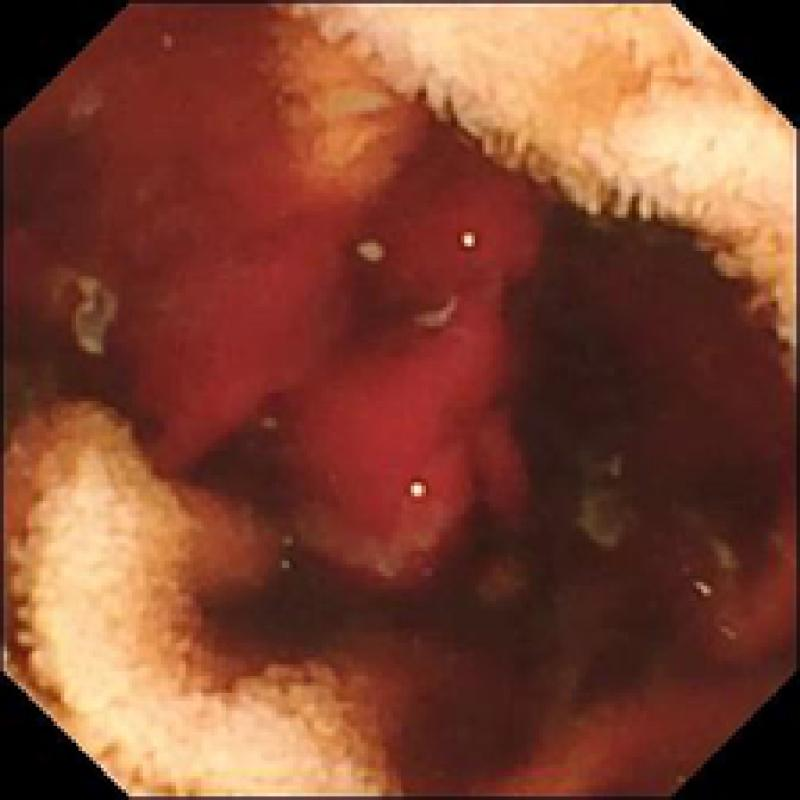bleeding: (118, 164, 546, 586)
